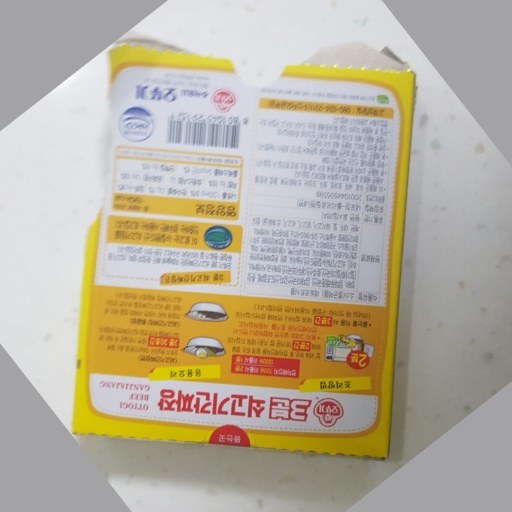Paper_0: (70, 37, 422, 469)
